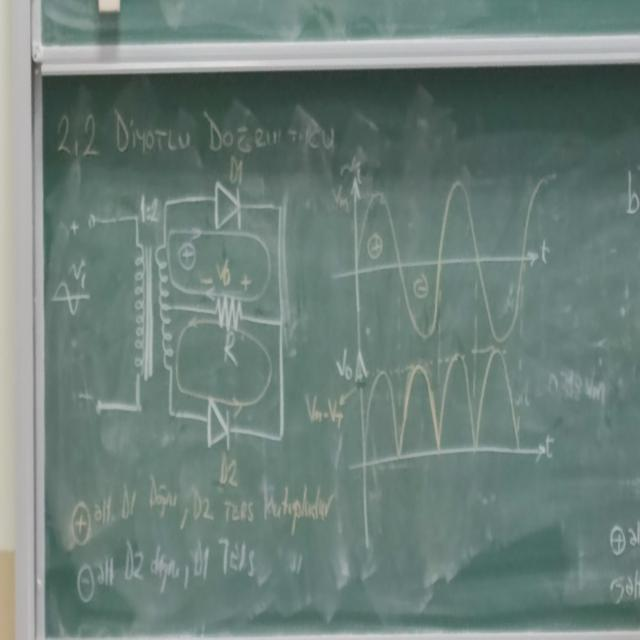image: (49, 172, 315, 457), (331, 349, 588, 564), (324, 156, 576, 360)
text: (84, 472, 334, 594), (104, 101, 338, 164)
